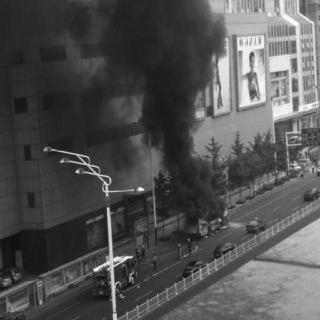Fire: (197, 199, 231, 237)
Smoke: (140, 0, 222, 216)
